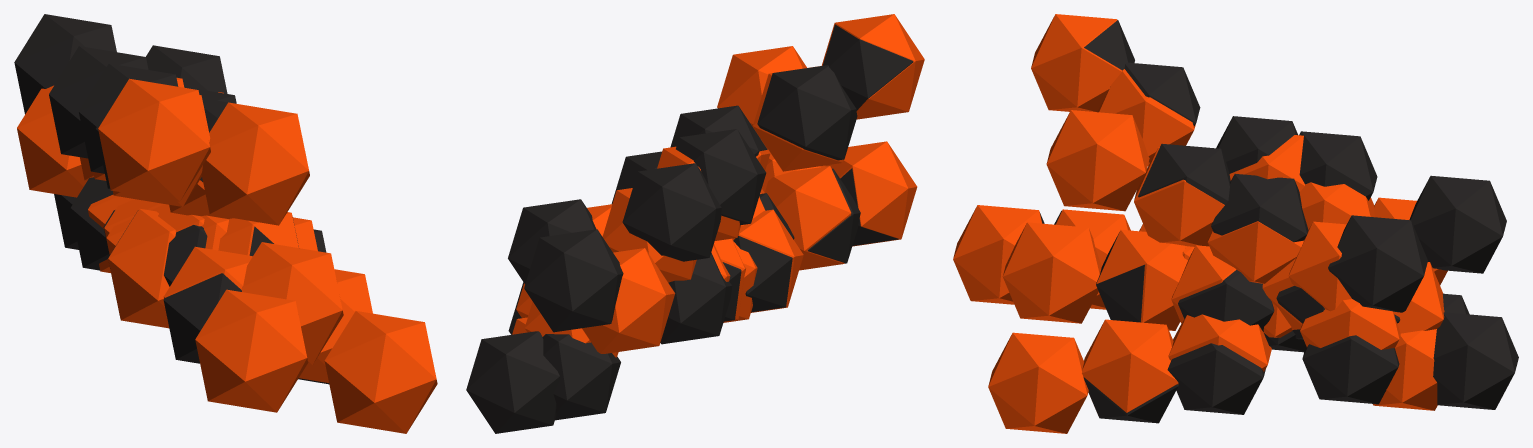
The picture shows the model from 3 angles, left to right: view 1: azimuth 30°, elevation 25°; view 2: azimuth 150°, elevation 25°; view 3: azimuth 270°, elevation 25°; orthographic projection. The views are drawn at different scales.
Visible parts, largest first — view 1: FireTrail, Smoke; view 2: Smoke, FireTrail; view 3: FireTrail, Smoke.
Part boxes in pixels (x1=…): FireTrail: x1=17, y1=77, x2=437, y2=433; Smoke: x1=14, y1=14, x2=329, y2=384; Smoke: x1=466, y1=24, x2=913, y2=433; FireTrail: x1=512, y1=14, x2=924, y2=357; FireTrail: x1=953, y1=14, x2=1447, y2=433; Smoke: x1=1040, y1=20, x2=1518, y2=423.
Size of the model in its own units: 16.05 by 18.27 by 28.91.
